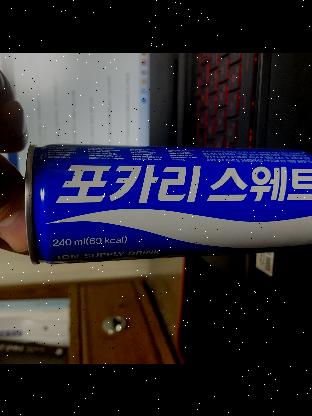Can: (19, 143, 312, 263)
